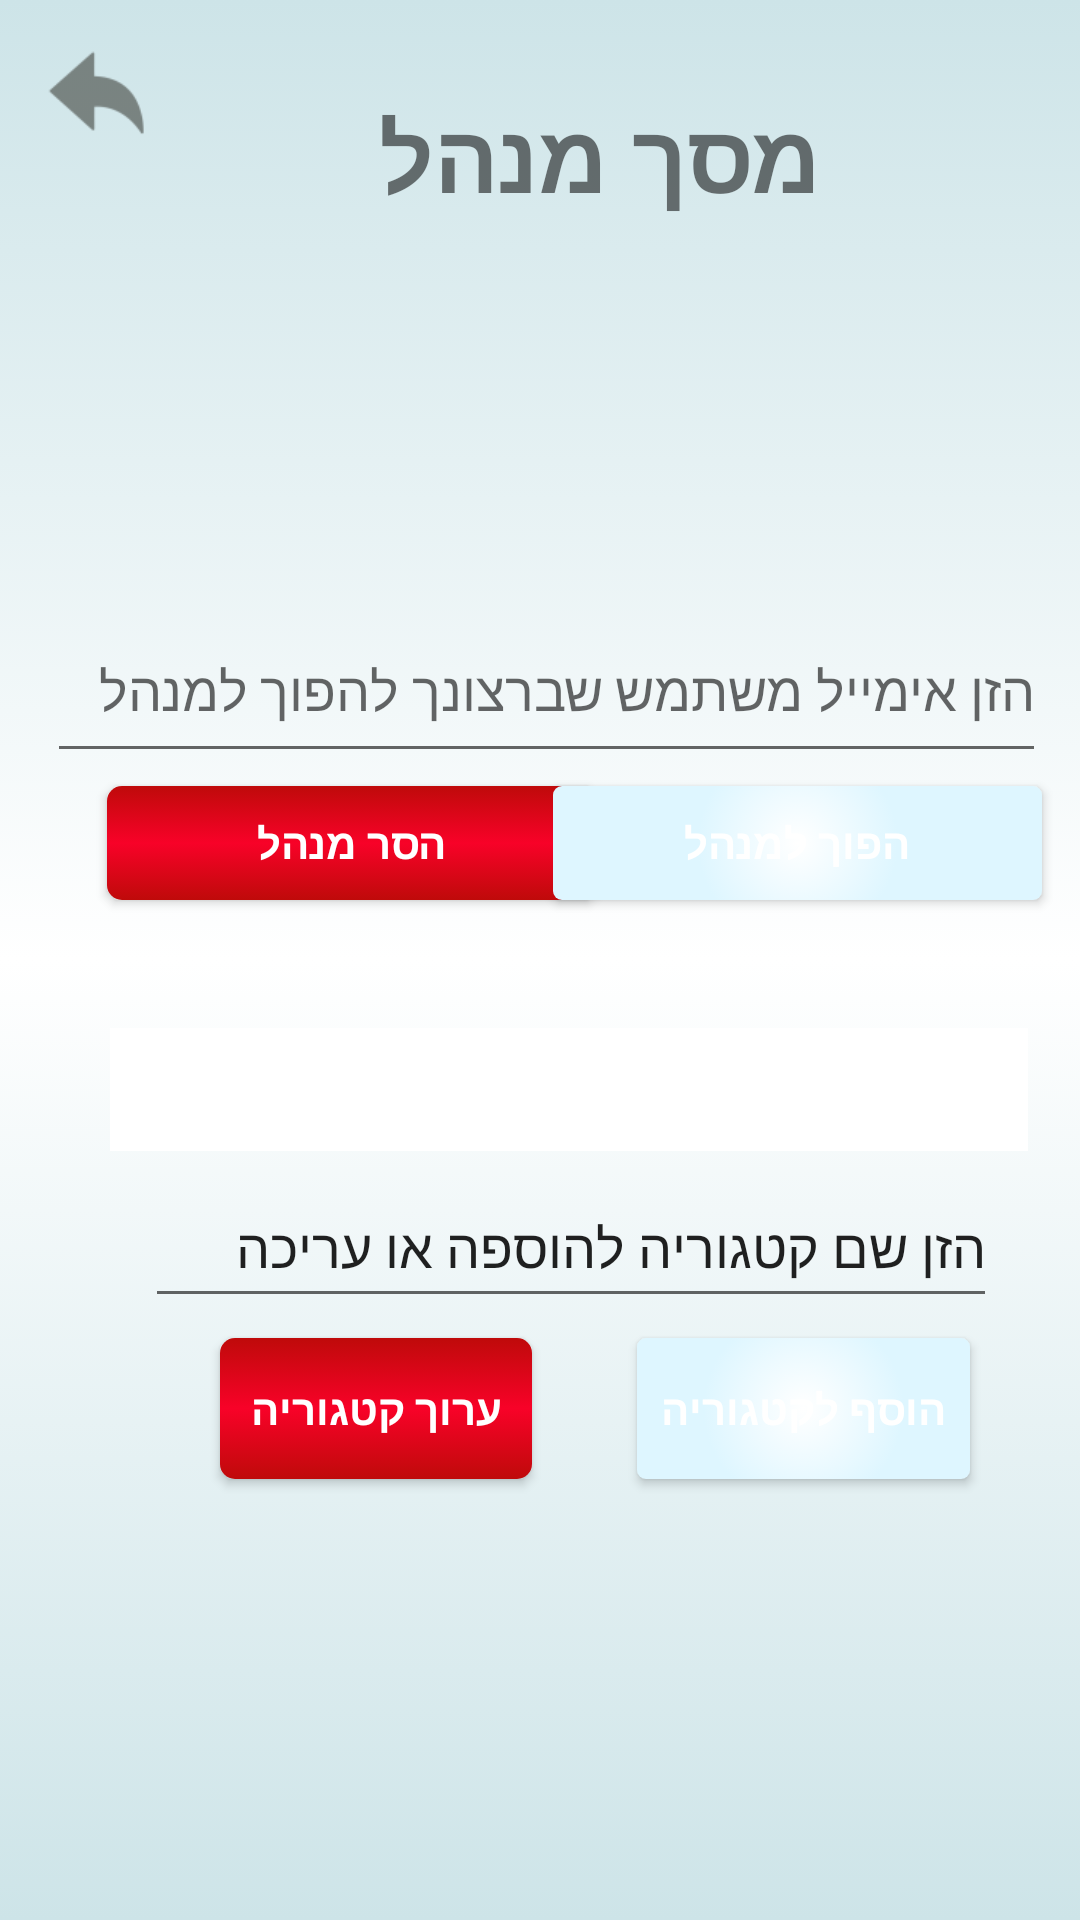

Icons on this 1080 x 1920 Android screen, each with its box as (x1, y1, x2, y2):
back button: (49, 52, 144, 134)
